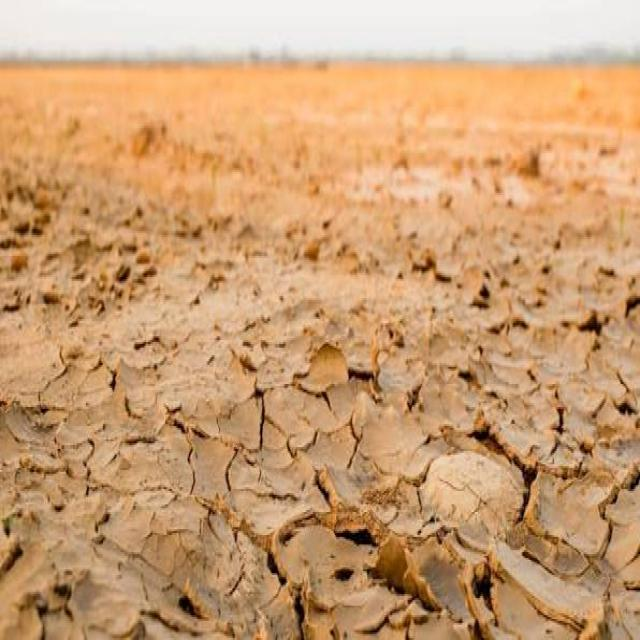suelo_seco: (163, 198, 454, 607)
